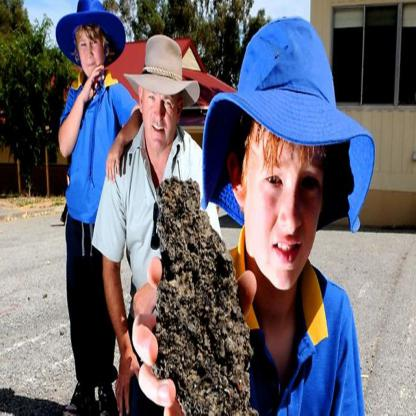face: (248, 114, 322, 282), (146, 72, 178, 142), (81, 20, 107, 82)
